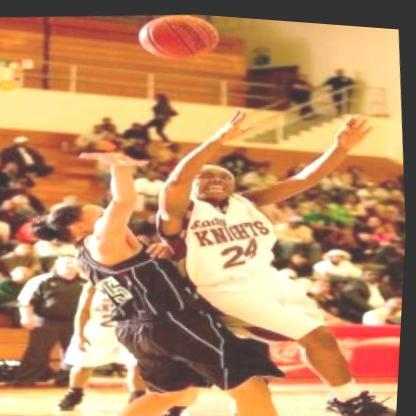basketball: (132, 8, 229, 71)
